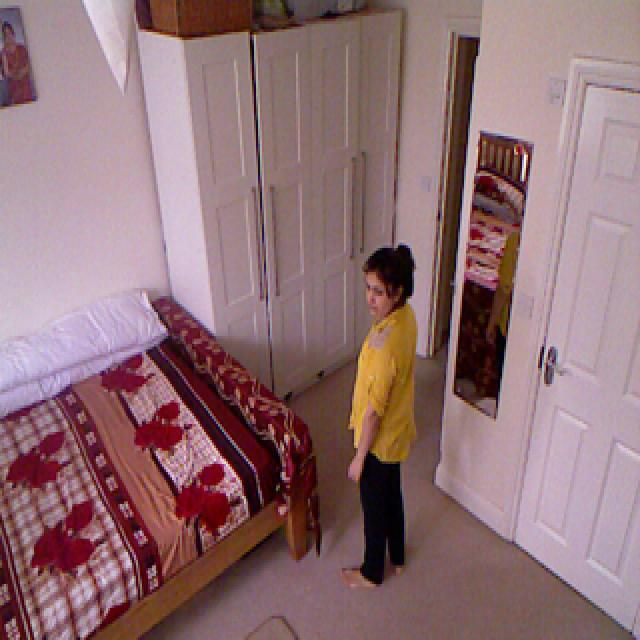standing: (354, 230, 416, 612)
